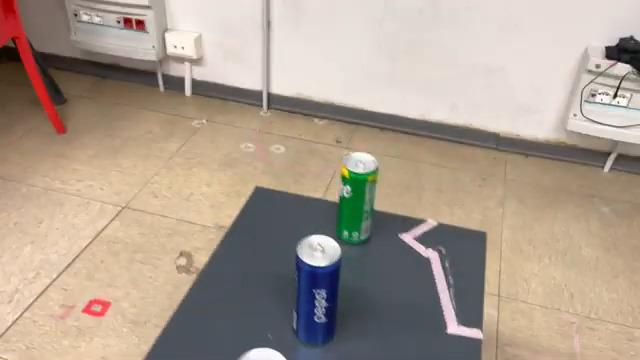Pepsi: (288, 231, 344, 352)
Sprite: (333, 148, 383, 250)
